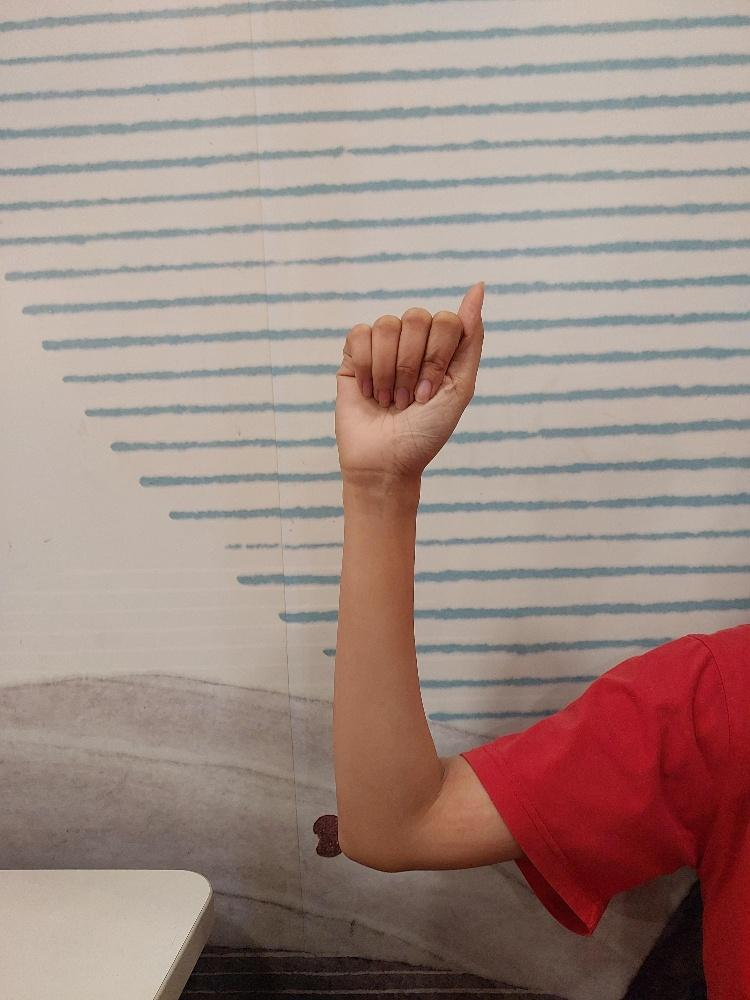a: (330, 276, 486, 476)
